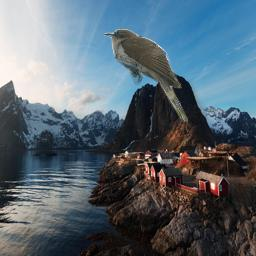Cuckoo: (104, 29, 188, 125)
